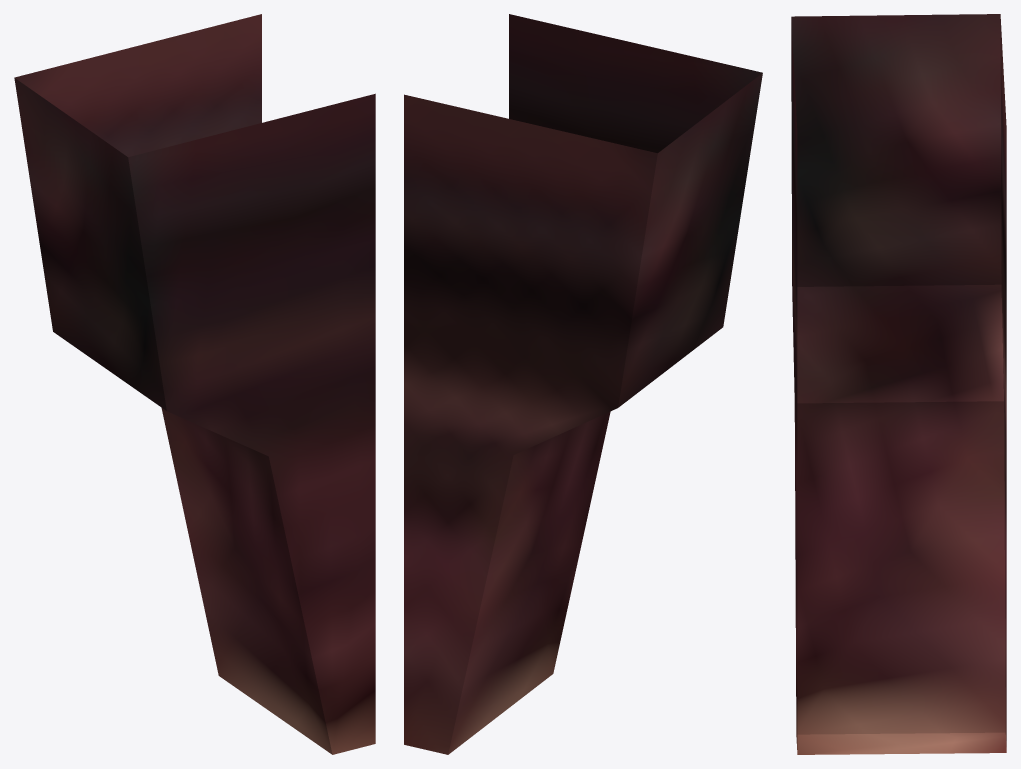
File: object_242_lev3.glb
3 views of the same model, side by side, from view 1: azimuth 30°, elevation 25°; view 2: azimuth 150°, elevation 25°; view 3: azimuth 270°, elevation 25° (orthographic). The views are drawn at different scales.
Parts seen in each view (by area): view 1: object_242_lev3; view 2: object_242_lev3; view 3: object_242_lev3.
Boxes of the visible parts, left/top/right/bottom form: object_242_lev3: left=14, top=14, right=375, bottom=754; object_242_lev3: left=404, top=14, right=762, bottom=754; object_242_lev3: left=791, top=14, right=1006, bottom=754.
Size of the model in its own units: 0.3489 by 0.8506 by 0.2672.
1 material, 1 textured.
